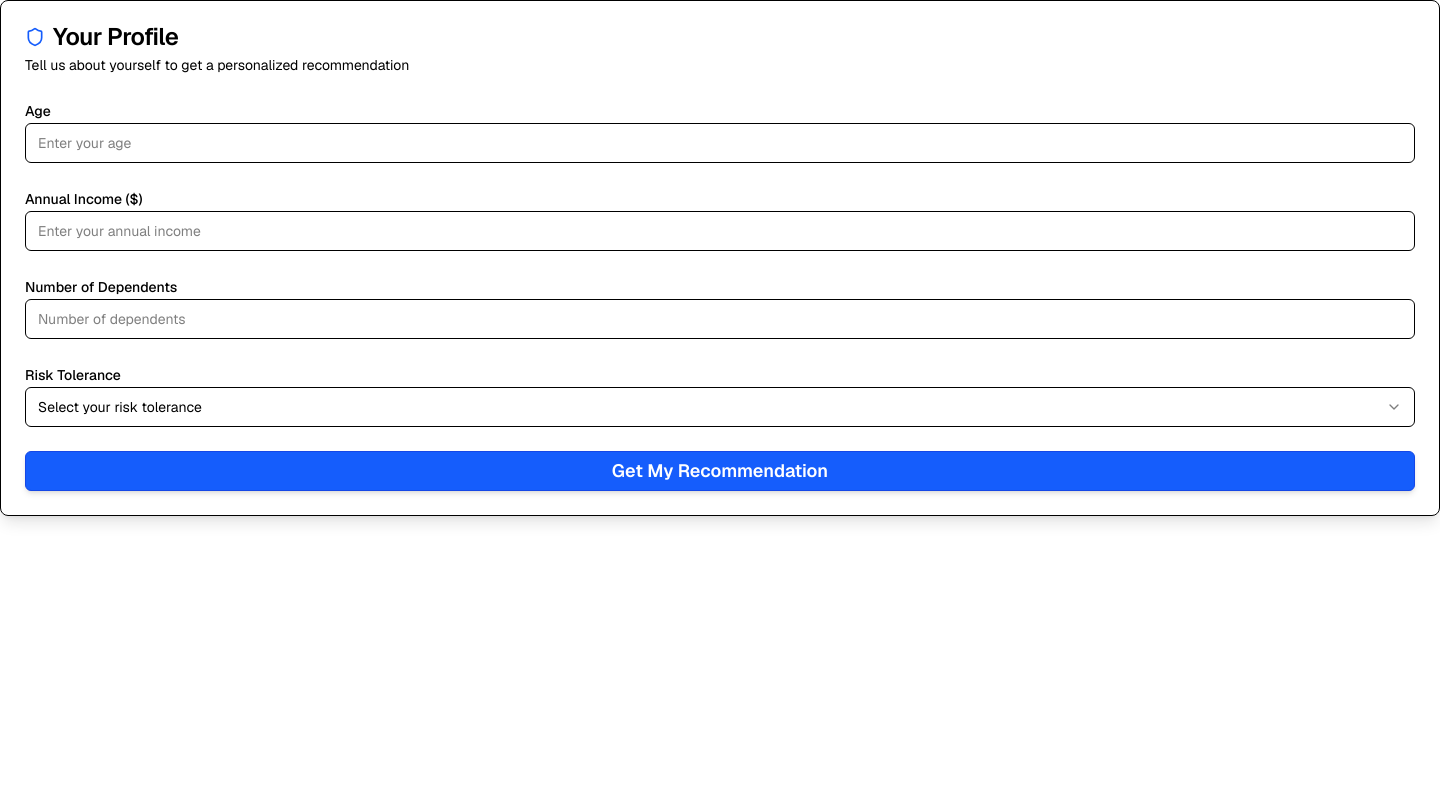
it: RecommendationForm › renders and validates required fields
This screenshot has width=1440, height=810.
Submit without filling any fields
Click the button "Get My Recommendation" at [720, 471], box 25,451 -> 1415,491
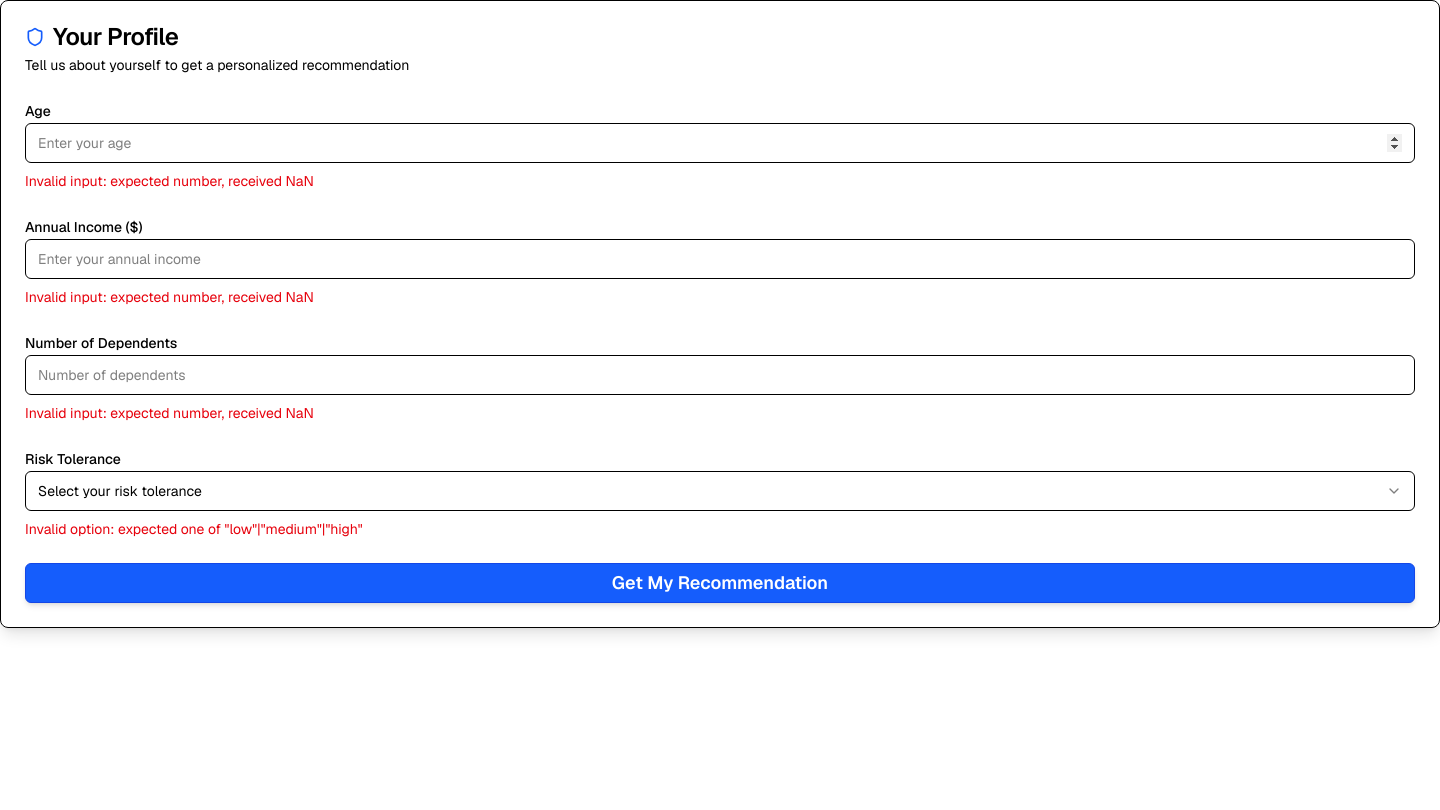
Check: the text "Invalid input: expected number, received NaN" below "Age" is shown, box 25,172 -> 314,190
